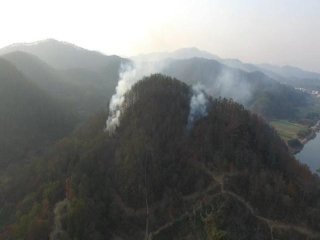smoke: (103, 53, 164, 139), (187, 69, 253, 132)
